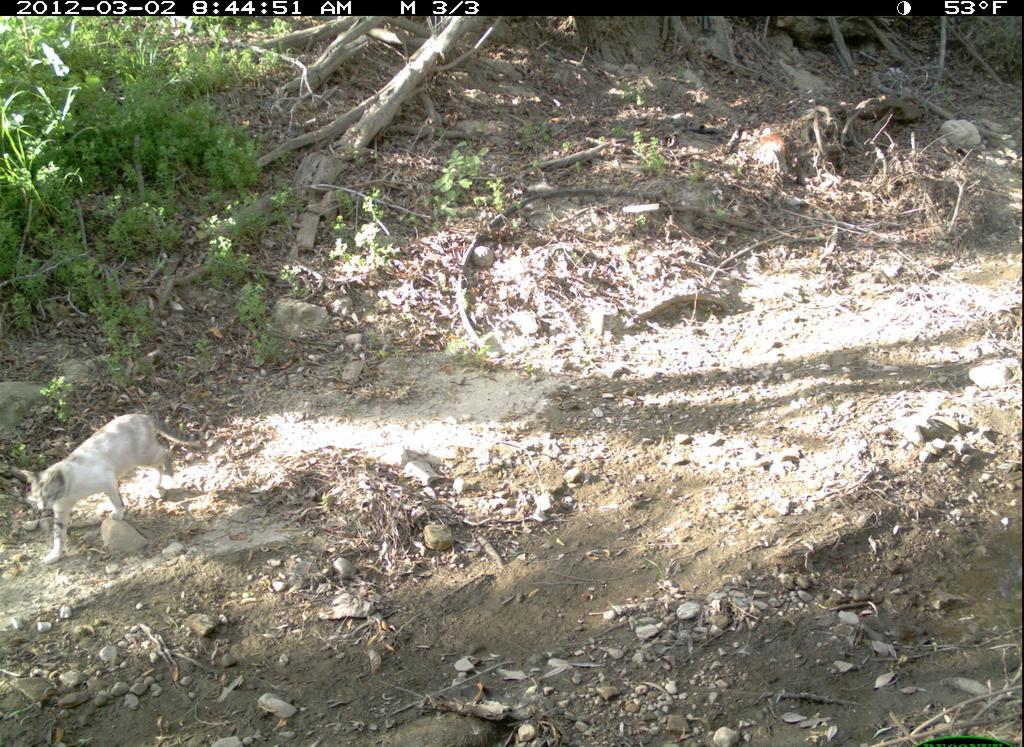cat: (16, 402, 199, 570)
